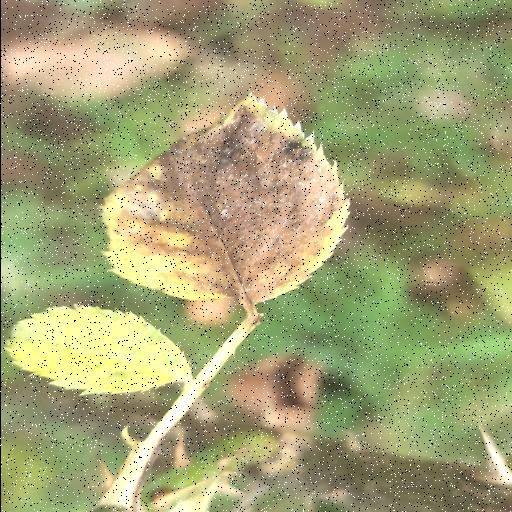thrip: (102, 98, 348, 309)
